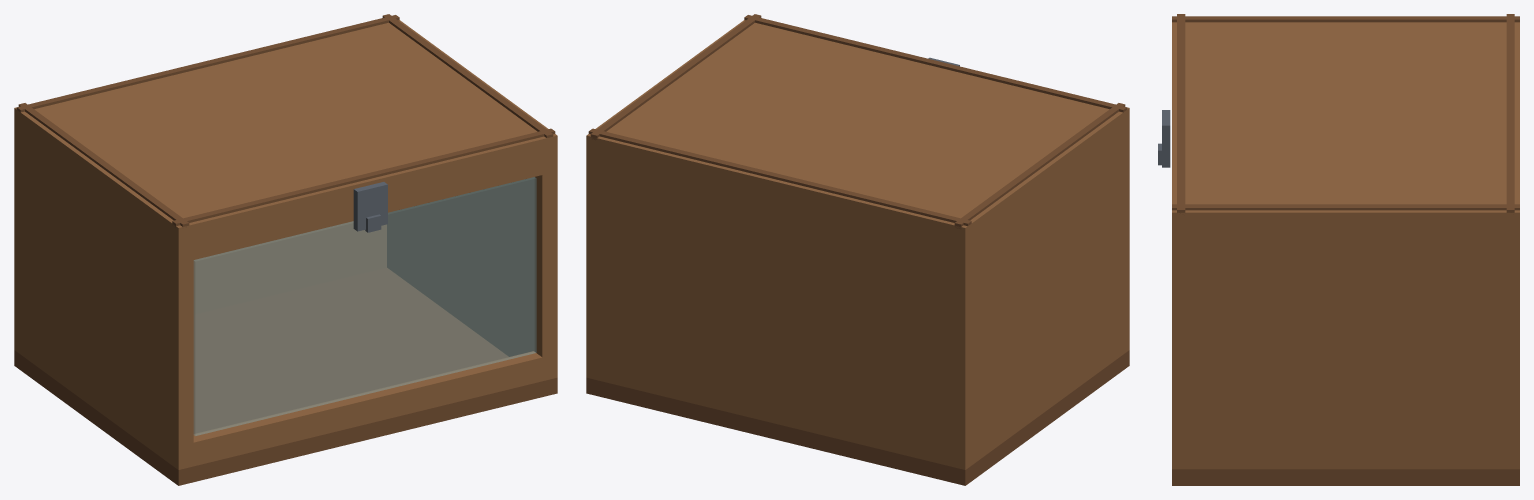
The picture shows the model from 3 angles, left to right: view 1: azimuth 30°, elevation 25°; view 2: azimuth 150°, elevation 25°; view 3: azimuth 270°, elevation 25°; orthographic projection. The views are drawn at different scales.
Parts seen in each view (by area): view 1: Lid_Hinged, Front_Glass_Window, Wall_Left, Box_Floor, Wall_Right, Front_Bottom_Rail, Wall_Rear, Front_Top_Rail, Lid_Trim_Front, Lid_Trim_Rear, Lid_Trim_Left, Lid_Trim_Right (+1 smaller); view 2: Wall_Rear, Lid_Hinged, Wall_Left, Box_Floor, Wall_Right, Lid_Trim_Rear, Lid_Trim_Front, Front_Post_Left, Lid_Trim_Left, Lid_Trim_Right; view 3: Wall_Right, Lid_Hinged, Box_Floor, Lid_Trim_Left, Lid_Trim_Right, Lid_Trim_Front, Lid_Trim_Rear, Front_Post_Right, Front_Latch_Plate, Front_Bottom_Rail.
Part boxes in pixels (<box>): Lid_Hinged: <box>14,20,557,247</box>; Front_Glass_Window: <box>194,177,536,435</box>; Wall_Left: <box>14,128,193,469</box>; Box_Floor: <box>14,267,557,485</box>; Wall_Right: <box>387,155,557,379</box>; Front_Bottom_Rail: <box>169,351,552,469</box>; Wall_Rear: <box>193,221,386,314</box>; Front_Top_Rail: <box>169,156,556,262</box>; Lid_Trim_Front: <box>172,128,555,227</box>; Lid_Trim_Rear: <box>16,15,399,112</box>; Lid_Trim_Left: <box>18,103,189,227</box>; Lid_Trim_Right: <box>382,14,553,137</box>; Wall_Rear: <box>601,159,950,466</box>; Lid_Hinged: <box>586,20,1129,247</box>; Wall_Left: <box>950,134,1129,469</box>; Box_Floor: <box>586,350,1129,485</box>; Wall_Right: <box>586,155,601,381</box>; Lid_Trim_Rear: <box>588,128,971,226</box>; Lid_Trim_Front: <box>744,15,1127,112</box>; Front_Post_Left: <box>1121,136,1129,343</box>; Lid_Trim_Left: <box>954,103,1125,229</box>; Lid_Trim_Right: <box>590,14,761,140</box>; Wall_Right: <box>1172,233,1519,469</box>; Lid_Hinged: <box>1172,22,1519,233</box>; Box_Floor: <box>1172,469,1519,485</box>; Lid_Trim_Left: <box>1172,16,1519,22</box>; Lid_Trim_Right: <box>1172,204,1519,210</box>; Lid_Trim_Front: <box>1177,14,1185,213</box>; Lid_Trim_Rear: <box>1506,14,1514,212</box>; Front_Post_Right: <box>1172,242,1190,443</box>; Front_Latch_Plate: <box>1162,110,1170,167</box>; Front_Bottom_Rail: <box>1172,444,1190,469</box>.
Size of the model in its own units: 2 by 1.31 by 1.56.
